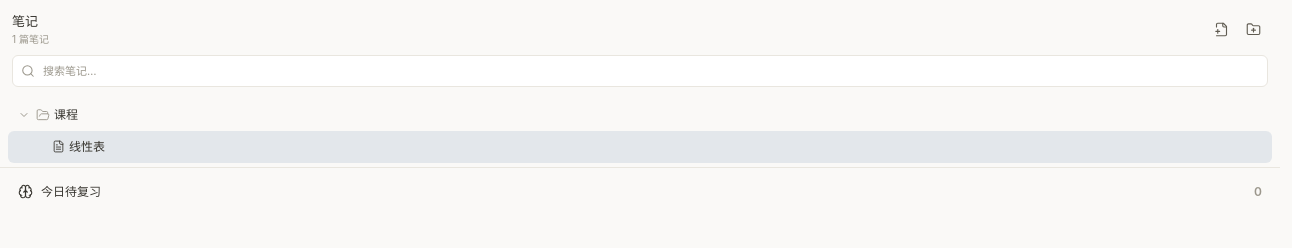
Test: FileTree 即时搜索 › 搜索状态点击新建仍展示原目录输入框
This screenshot has width=1292, height=248.
In the search field named "搜索笔记": (651, 70) [43,56,1259,86], type "线性"
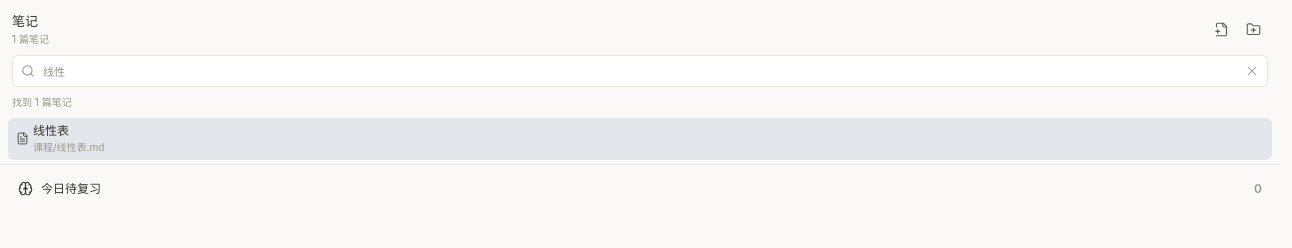
Click the button titled "新建笔记": (1221, 29) [1206,14,1236,44]
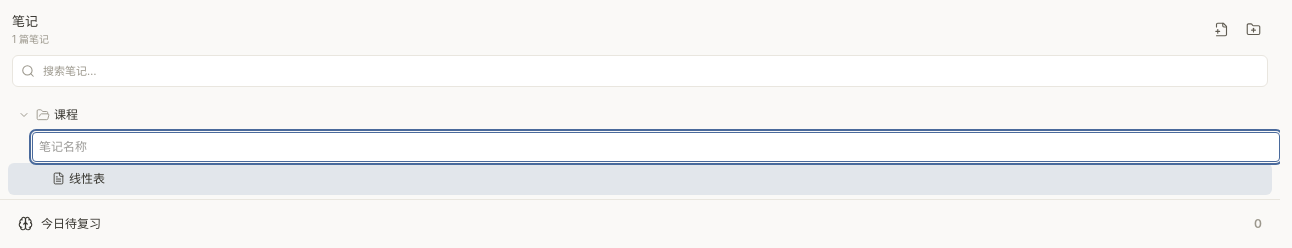
Now the search field named "搜索笔记" is empty, box [43,56,1259,86]
Now the field with class "tree-input" is shown, box [32,132,1280,162]
